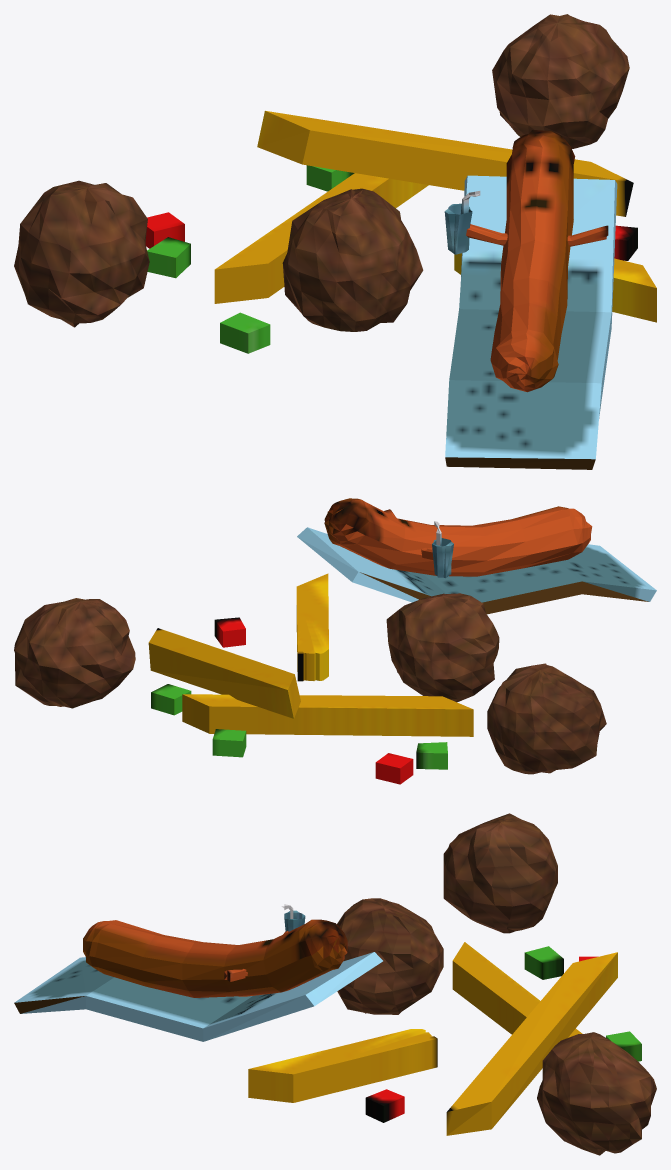
Rendered from Momma.glb.
3 views of the same model, one above another, from view 1: azimuth 30°, elevation 25°; view 2: azimuth 150°, elevation 25°; view 3: azimuth 270°, elevation 25° (orthographic). The views are drawn at different scales.
Parts seen in each view (by area): view 1: Momma; view 2: Momma; view 3: Momma.
Part boxes in pixels (x1,y1,x2,y2): Momma: [14, 14, 656, 469]; Momma: [14, 498, 656, 784]; Momma: [14, 813, 656, 1155].
Size of the model in its own units: 207 by 53.8 by 210.
Materials: 1 (1 with a texture image).
